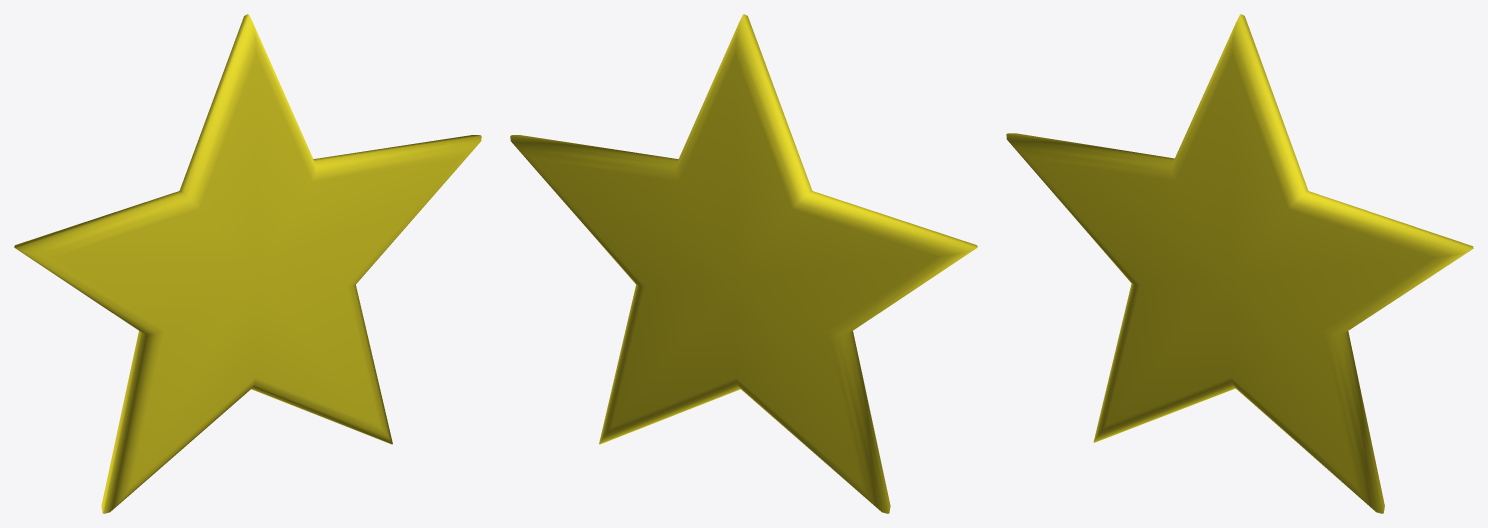
The model's file is DustParticle.fbx.
The picture shows the model from 3 angles, left to right: view 1: azimuth 30°, elevation 25°; view 2: azimuth 150°, elevation 25°; view 3: azimuth 330°, elevation 25°; orthographic projection.
Parts seen in each view (by area): view 1: Star; view 2: Star; view 3: Star.
Boxes of the visible parts, x1,y1,x2,y2 form: Star: (14,14,481,513); Star: (510,14,977,513); Star: (1006,14,1473,513).
Size of the model in its own units: 0.2432 by 0.2315 by 0.0145.
